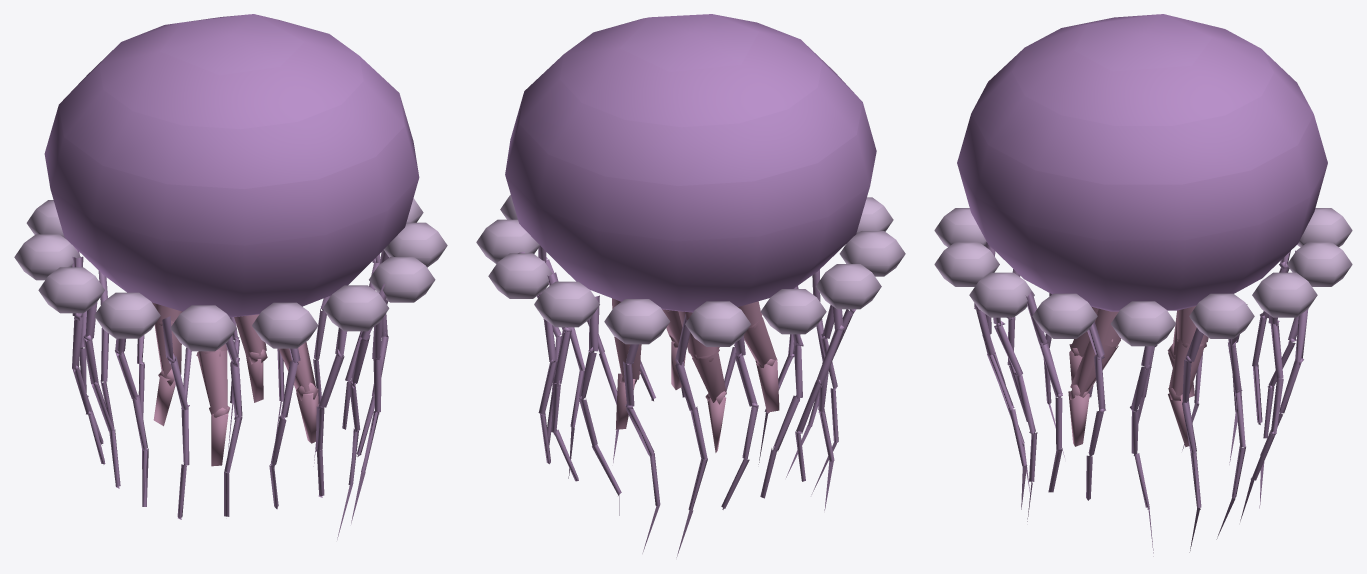
The model's file is jellyfish.glb.
The picture shows the model from 3 angles, left to right: view 1: azimuth 30°, elevation 25°; view 2: azimuth 150°, elevation 25°; view 3: azimuth 270°, elevation 25°; orthographic projection.
Visible parts, largest first — view 1: jellyfish; view 2: jellyfish; view 3: jellyfish.
Boxes of the visible parts, x1=… form: jellyfish: x1=14, y1=14, x2=447, y2=539; jellyfish: x1=476, y1=14, x2=905, y2=557; jellyfish: x1=934, y1=14, x2=1352, y2=556.
Size of the model in its own units: 0.7639 by 0.9436 by 0.7635.
